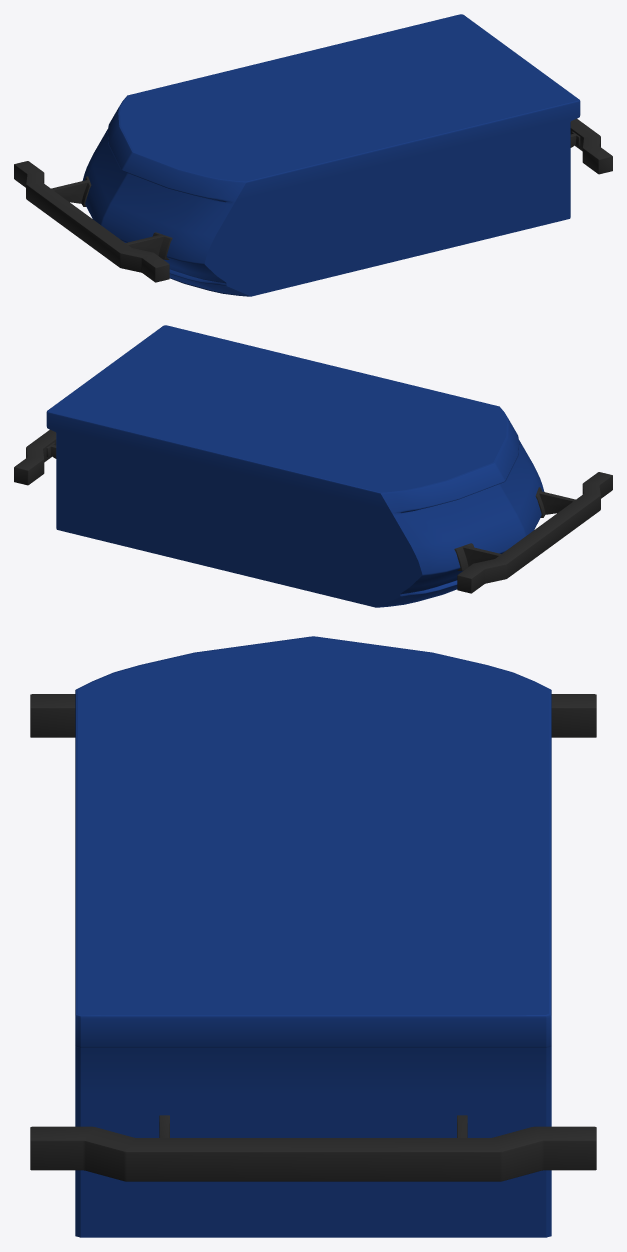
The model's file is chassis.dae.
3 views of the same model, one above another, from view 1: azimuth 30°, elevation 25°; view 2: azimuth 150°, elevation 25°; view 3: azimuth 270°, elevation 25° (orthographic). The views are drawn at different scales.
Parts seen in each view (by area): view 1: X1_Body; view 2: X1_Body; view 3: X1_Body.
Part boxes in pixels (x1,y1,x2,y2): X1_Body: (14,14,612,296); X1_Body: (14,325,612,607); X1_Body: (30,636,596,1237).
Bounding box in the file's own units: 0.9896 × 0.505 × 0.2272.
